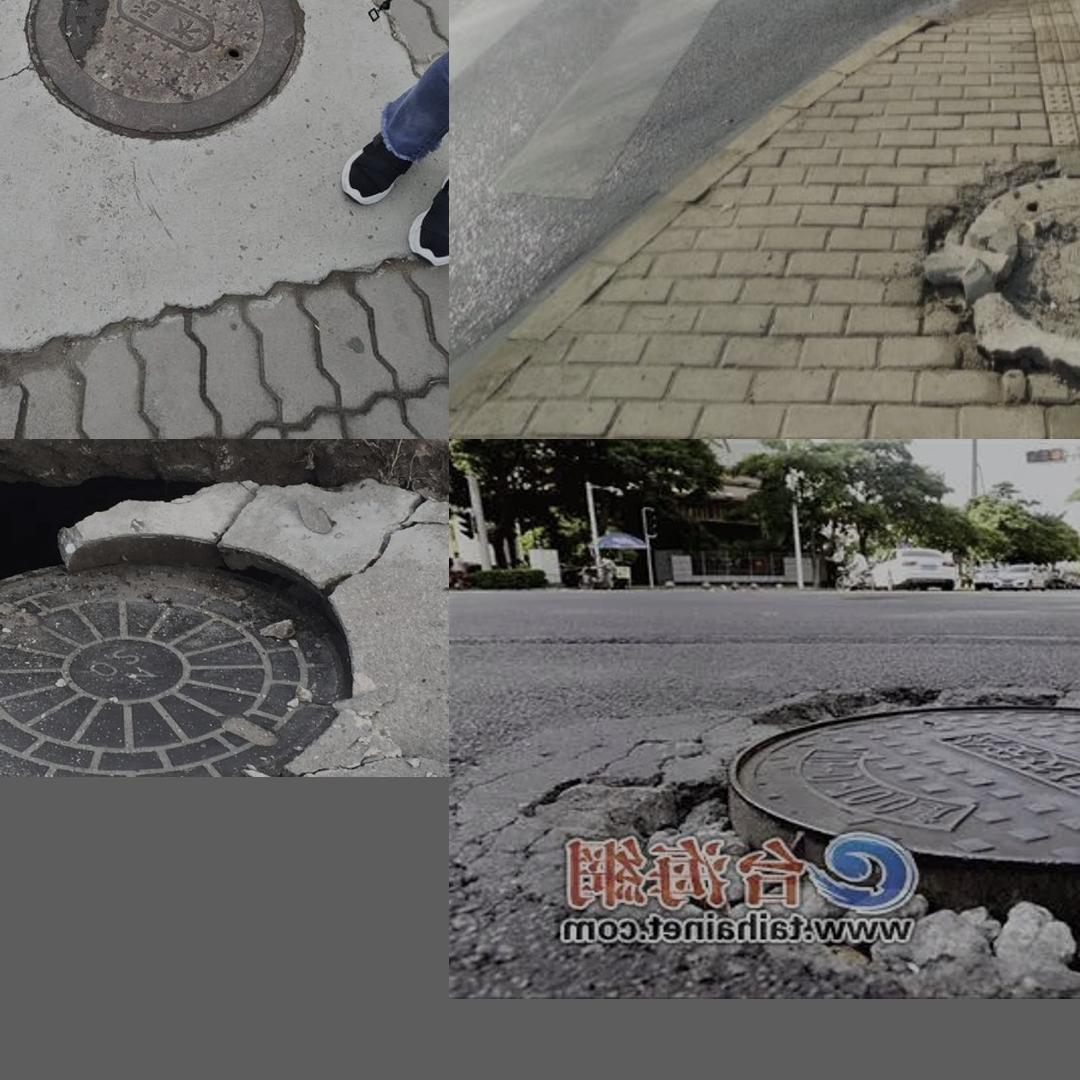circle: (501, 684, 1080, 967), (0, 452, 441, 773), (0, 0, 357, 175), (920, 135, 1080, 388)
